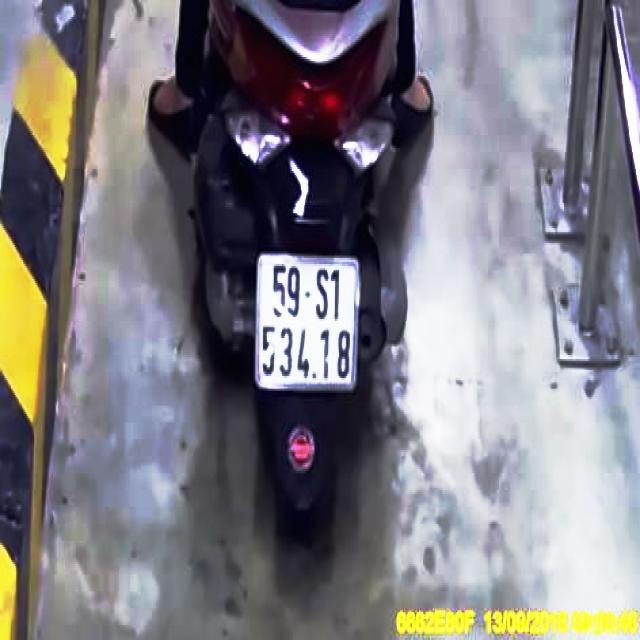license_plate: (258, 261, 358, 389)
